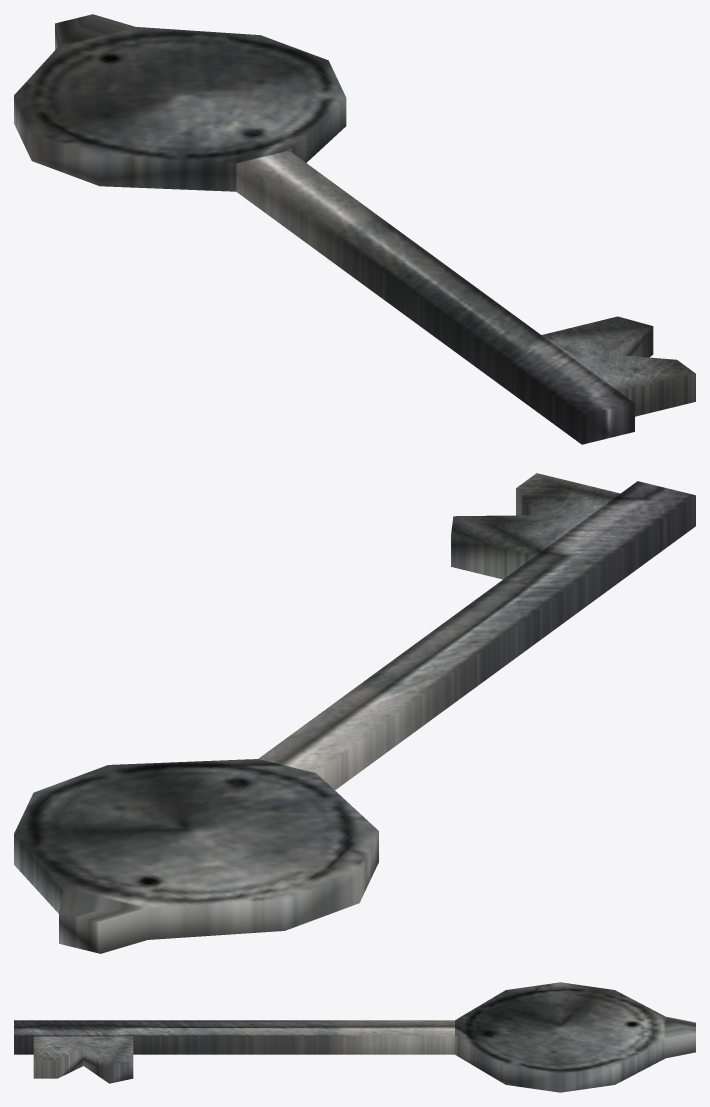
File: key_old_silver.fbx
3 renders of one model, top to bottom at view 1: azimuth 30°, elevation 25°; view 2: azimuth 150°, elevation 25°; view 3: azimuth 270°, elevation 25°, orthographic. The views are drawn at different scales.
Parts seen in each view (by area): view 1: key_old_s; view 2: key_old_s; view 3: key_old_s.
Boxes of the visible parts, <box> form: key_old_s: <box>14,14,695,444</box>; key_old_s: <box>14,473,695,953</box>; key_old_s: <box>14,982,695,1092</box>.
Bounding box in the file's own units: 9.46 × 0.8583 × 29.49.
Materials: 1 (1 with a texture image).
